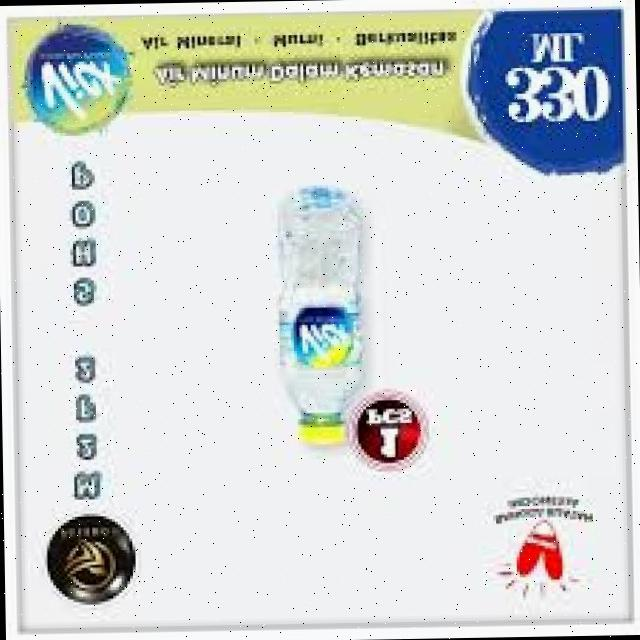bottle: (245, 175, 396, 470)
cap: (296, 409, 351, 448)
label: (276, 306, 372, 362)
